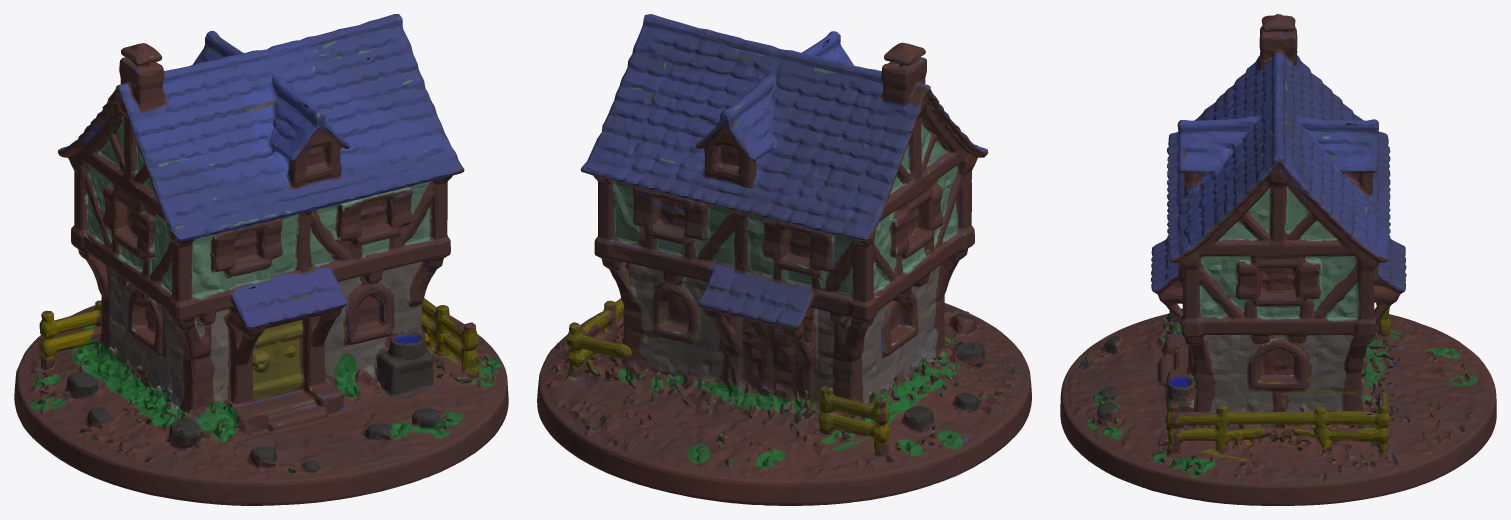
File: casa.glb
The picture shows the model from 3 angles, left to right: view 1: azimuth 30°, elevation 25°; view 2: azimuth 150°, elevation 25°; view 3: azimuth 270°, elevation 25°; orthographic projection. The views are drawn at different scales.
Visible parts, largest first — view 1: tmp3c7n5c9i.ply; view 2: tmp3c7n5c9i.ply; view 3: tmp3c7n5c9i.ply.
Part boxes in pixels (left/top/right/bottom): tmp3c7n5c9i.ply: left=14, top=14, right=508, bottom=505; tmp3c7n5c9i.ply: left=537, top=14, right=1031, bottom=505; tmp3c7n5c9i.ply: left=1060, top=14, right=1496, bottom=505.
Size of the model in its own units: 1.96 by 1.73 by 1.96.
Materials: 1 (1 with a texture image).
